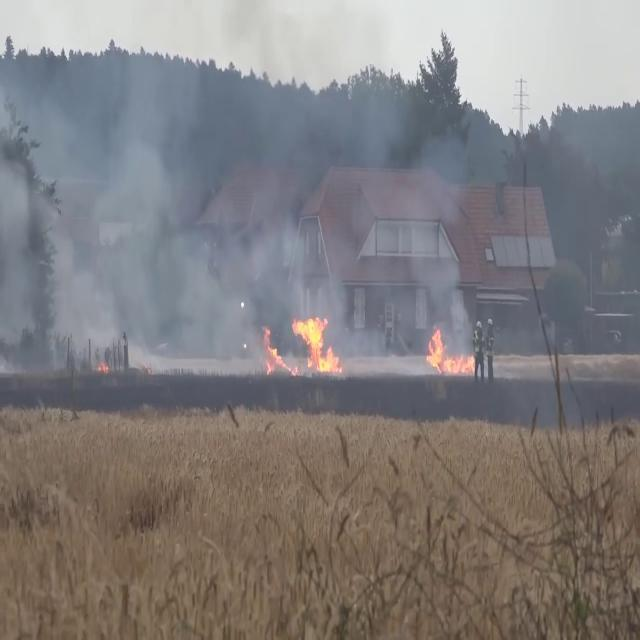Fire: (290, 301, 342, 376), (424, 320, 476, 380)
Smoke: (0, 0, 288, 386), (336, 7, 476, 357)
